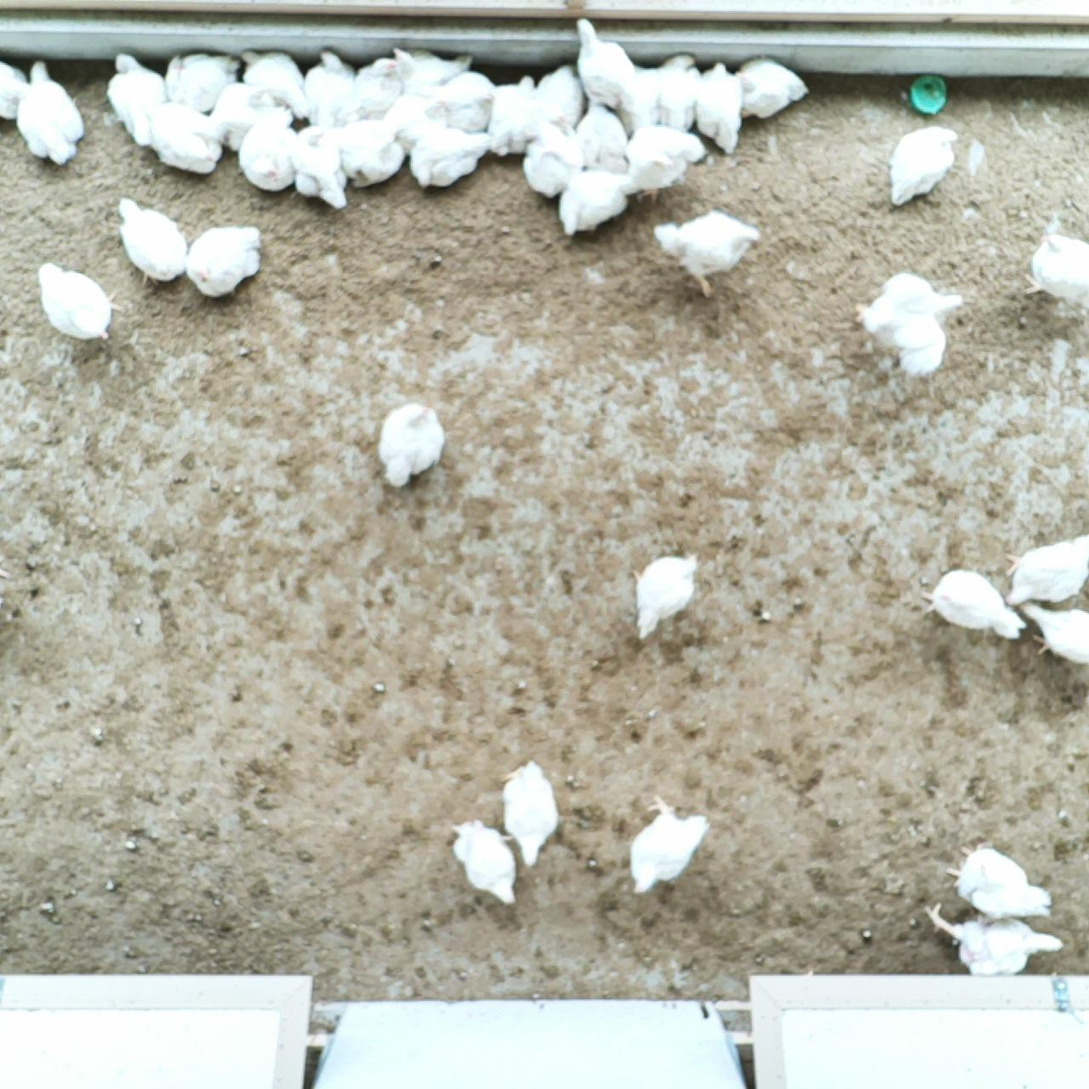chicken: (850, 267, 969, 381), (919, 897, 1068, 976), (650, 201, 769, 299), (622, 791, 715, 898), (937, 838, 1055, 922), (10, 54, 88, 167), (920, 567, 1032, 641), (495, 757, 566, 869), (35, 261, 124, 347), (995, 528, 1089, 608), (626, 548, 706, 642), (553, 166, 652, 238), (621, 121, 710, 201), (141, 94, 227, 176), (449, 815, 524, 909), (568, 18, 638, 118), (207, 77, 299, 153), (182, 221, 269, 301), (114, 192, 188, 286), (884, 124, 960, 214), (107, 50, 172, 148), (232, 104, 306, 188), (727, 54, 812, 127), (687, 59, 748, 159), (376, 400, 445, 487), (372, 86, 457, 155), (335, 115, 412, 191), (233, 47, 313, 119), (407, 123, 492, 190), (408, 71, 498, 134), (336, 54, 411, 127), (162, 49, 248, 112), (575, 92, 637, 179), (1016, 596, 1089, 669), (1018, 227, 1089, 302), (289, 123, 348, 213), (302, 47, 363, 134), (483, 73, 542, 161), (390, 41, 476, 101), (522, 117, 583, 201), (649, 50, 703, 133), (534, 61, 589, 130), (617, 61, 660, 141), (0, 57, 35, 122)
